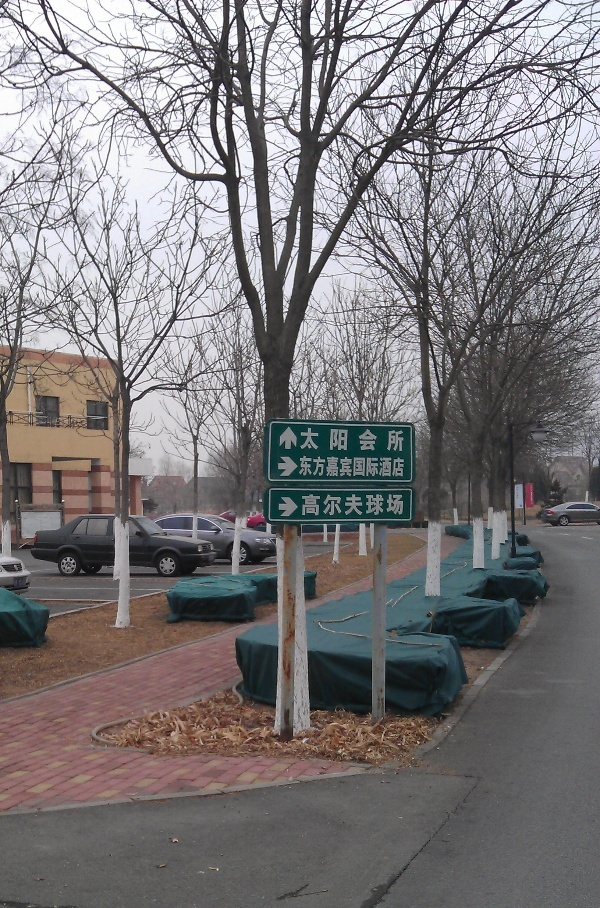text: (305, 427, 320, 453), (321, 427, 336, 453), (337, 427, 352, 453), (353, 427, 368, 453), (369, 427, 384, 453), (385, 427, 400, 453), (305, 455, 320, 479), (321, 455, 336, 479), (337, 455, 352, 479), (353, 455, 368, 479), (369, 455, 384, 479), (385, 455, 400, 479), (305, 494, 320, 517), (321, 494, 336, 517), (337, 494, 352, 517), (353, 494, 368, 517), (369, 494, 384, 517), (385, 494, 400, 517), (401, 427, 406, 453), (299, 455, 304, 479), (401, 455, 405, 479), (301, 427, 304, 453), (401, 494, 404, 517), (302, 494, 304, 517)
